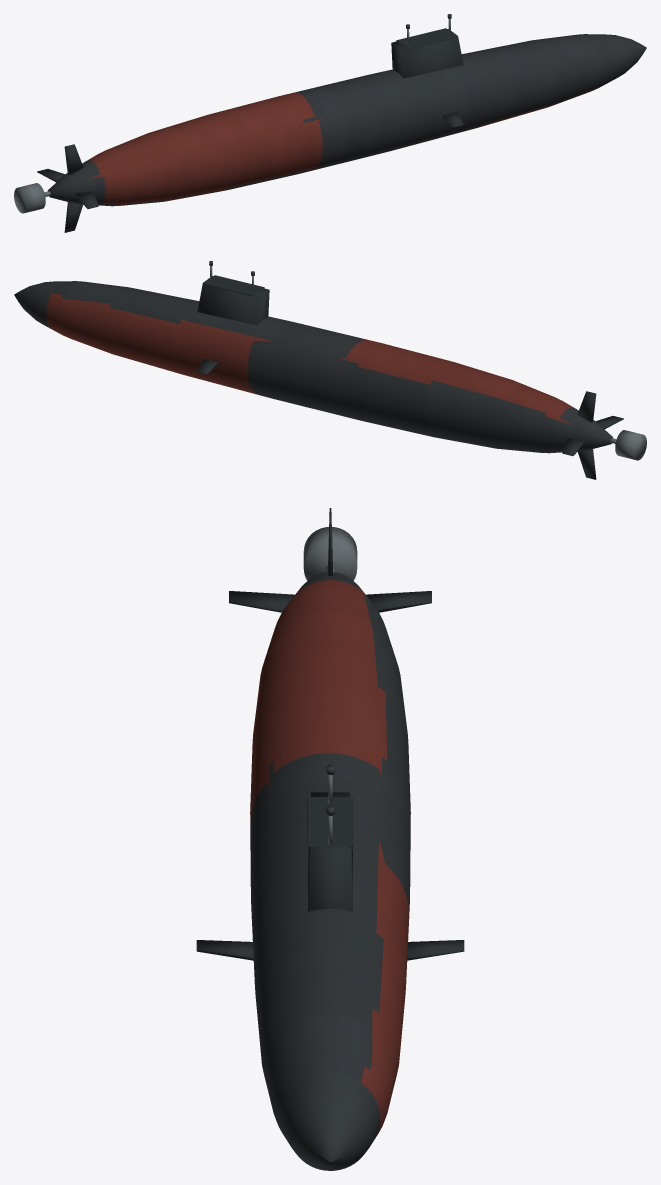
Rendered from UK_SSN_Astute_LOD2.fbx.
3 views of the same model, one above another, from view 1: azimuth 30°, elevation 25°; view 2: azimuth 150°, elevation 25°; view 3: azimuth 270°, elevation 25° (orthographic). The views are drawn at different scales.
Visible parts, largest first — view 1: UK_SSN_Astute_LOD2; view 2: UK_SSN_Astute_LOD2; view 3: UK_SSN_Astute_LOD2.
Part boxes in pixels (x1=…): UK_SSN_Astute_LOD2: x1=14, y1=14, x2=646, y2=232; UK_SSN_Astute_LOD2: x1=14, y1=261, x2=646, y2=479; UK_SSN_Astute_LOD2: x1=196, y1=508, x2=464, y2=1170.
Size of the model in its own units: 102 by 18.82 by 19.24.
Materials: 6 (1 with a texture image).
